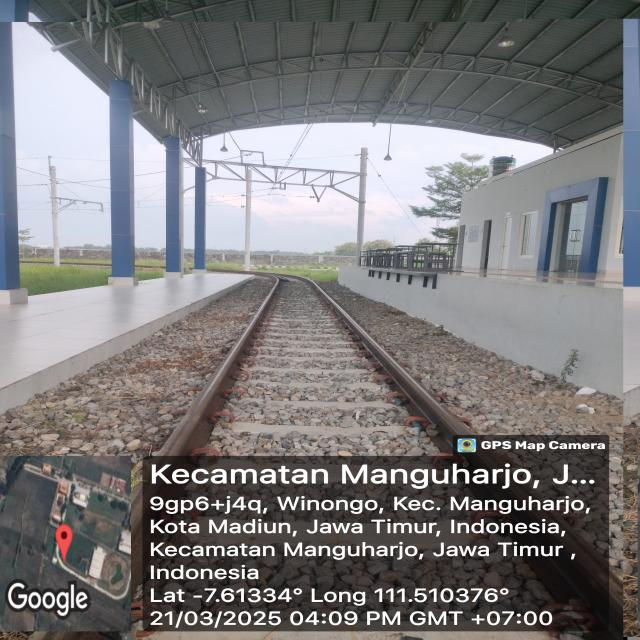rail-detection: (303, 280, 470, 445), (160, 279, 280, 455)
